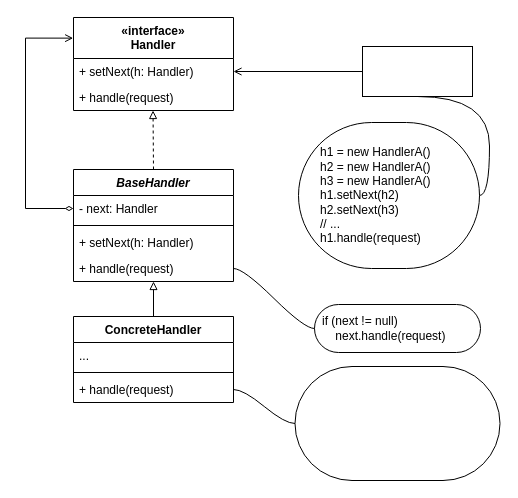
Some shapes in this 518 by 498 pixel diagram are drawn without their labels. The shapes that lost their labels are listed below. From the top down, each one's centre as x and y in pixels, then its label:
At (417,71): "Client".
At (397,423): "if (canHandle(request) { // ... } else { parent::handle(request) }".
